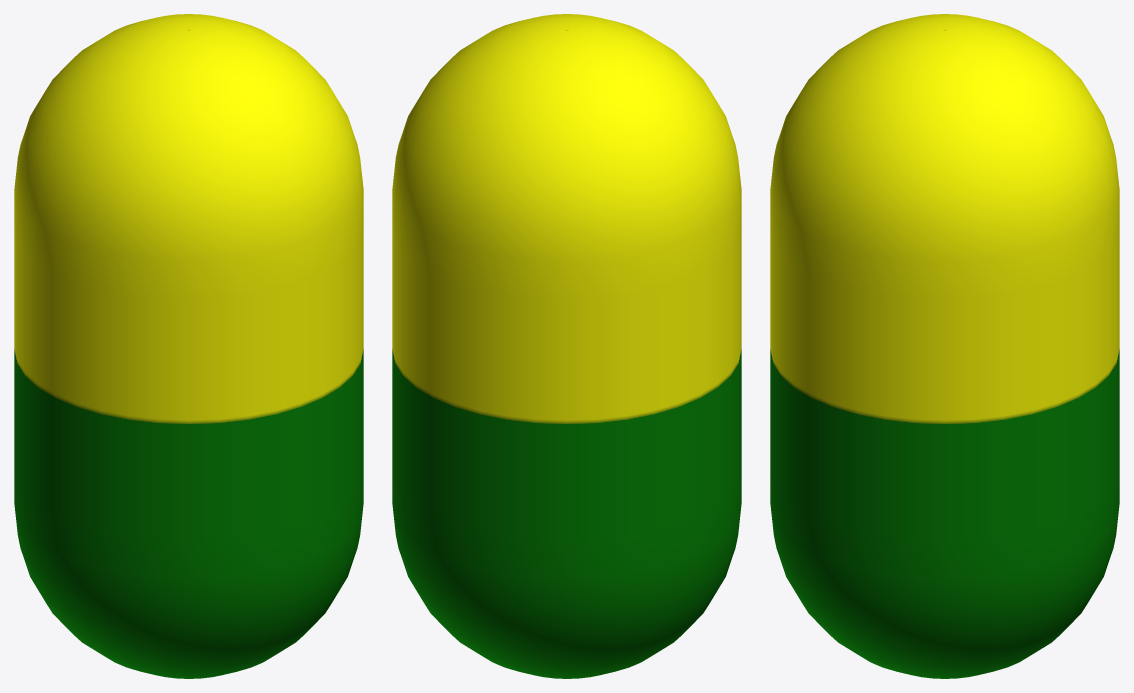
File: Таблэтка.fbx
3 views of the same model, side by side, from view 1: azimuth 30°, elevation 25°; view 2: azimuth 150°, elevation 25°; view 3: azimuth 270°, elevation 25° (orthographic).
Parts seen in each view (by area): view 1: Объект Капсула; view 2: Объект Капсула; view 3: Объект Капсула.
Boxes of the visible parts, x1,y1,x2,y2 form: Объект Капсула: [14, 14, 363, 678]; Объект Капсула: [392, 14, 741, 678]; Объект Капсула: [770, 14, 1119, 678].
Bounding box in the file's own units: 100 × 200 × 100.
Materials: 1 (1 with a texture image).
